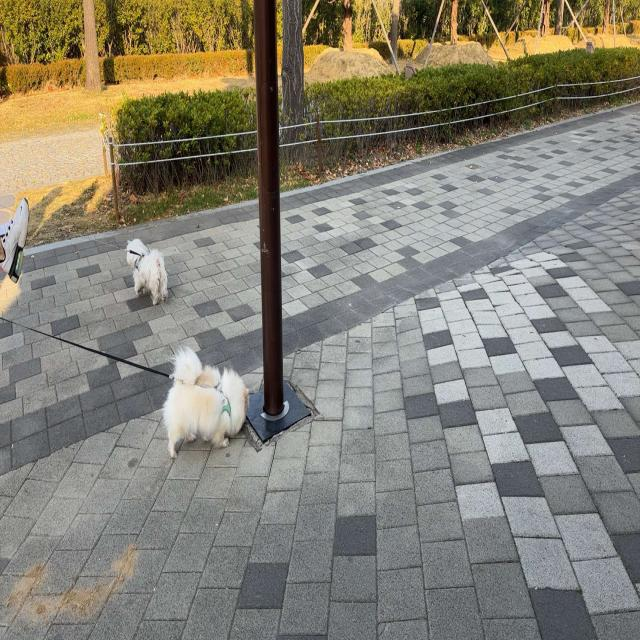Dog: (162, 346, 251, 462), (126, 236, 170, 308)
